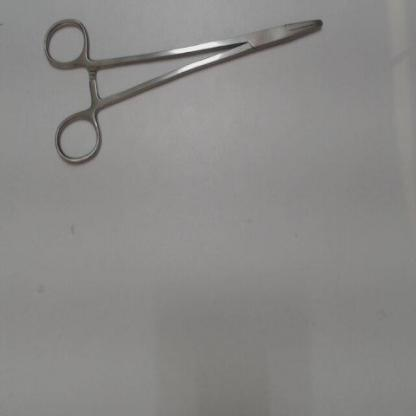8 Mayo Needle Holder: (37, 10, 340, 178)
